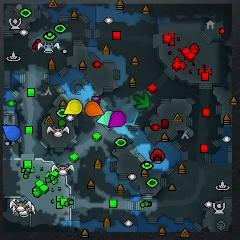p1: (2, 125, 21, 142)
p2: (97, 111, 112, 126)
p3: (108, 111, 126, 127)
p4: (63, 98, 83, 114)
p5: (85, 101, 104, 117)
x4: (133, 93, 150, 109)
